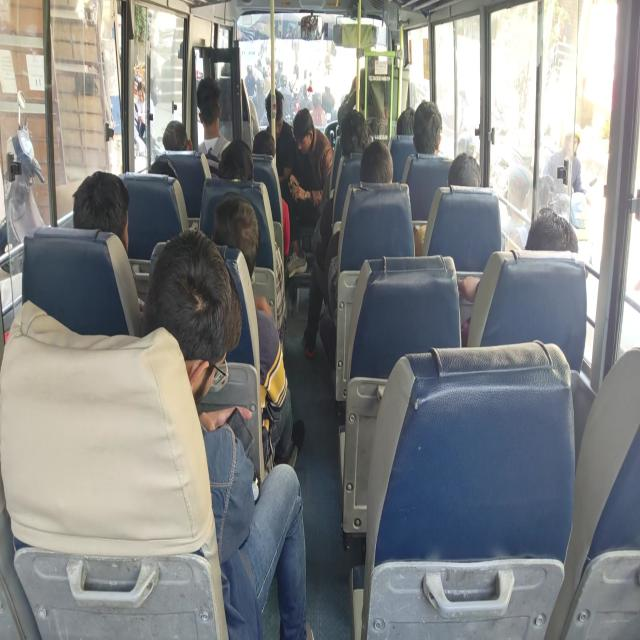person: (142, 227, 310, 638), (212, 194, 304, 465), (302, 138, 393, 368), (457, 205, 578, 346), (72, 171, 144, 314), (287, 107, 333, 275), (72, 169, 129, 256), (264, 88, 296, 181), (196, 76, 231, 161), (542, 130, 583, 194), (525, 206, 578, 253), (412, 100, 443, 156), (339, 109, 373, 155), (217, 138, 253, 181), (448, 152, 482, 187), (162, 120, 190, 150), (309, 91, 327, 129), (396, 107, 415, 135)
